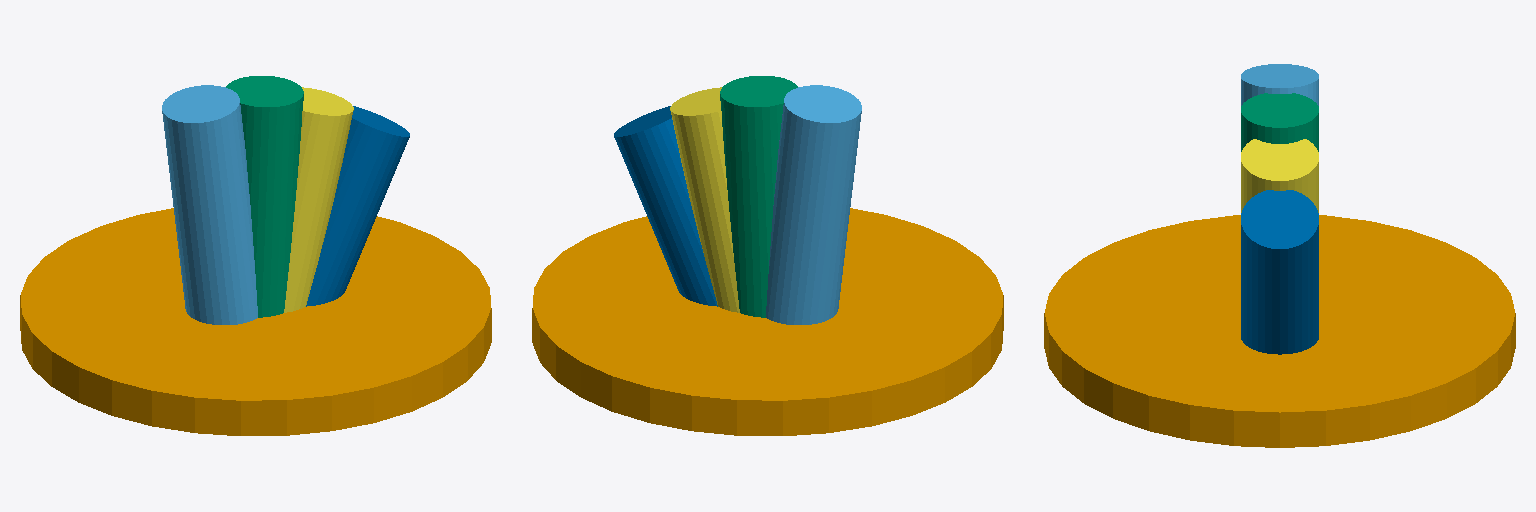
The robot description file, URDF, robot "robot_hand":
<?xml version="1.0"?>
<robot name="robot_hand">

  <link name="base_link">
    <visual>
      <geometry>
        <cylinder length="0.01" radius="0.06"/>
      </geometry>
    </visual>
  </link>
  
  <link name="fore_finger_metacarpal">
    <visual>
      <geometry>
        <cylinder length="0.0645" radius="0.01"/>
      </geometry>
      <origin rpy="0 0 0" xyz="0 0 0.03225"/>
    </visual>
  </link>
  
  <link name="middle_finger_metacarpal">
    <visual>
      <geometry>
        <cylinder length="0.0633" radius="0.01"/>
      </geometry>
      <origin rpy="0 0 0" xyz="0 0 0.03165"/>
    </visual>
  </link>

  <link name="ring_finger_metacarpal">
    <visual>
      <geometry>
        <cylinder length="0.05854" radius="0.01"/>
      </geometry>
      <origin rpy="0 0 0" xyz="0 0 0.02927"/>
    </visual>
  </link>
  
  <link name="little_finger_metacarpal">
    <visual>
      <geometry>
        <cylinder length="0.05293" radius="0.01"/>
      </geometry>
      <origin rpy="0 0 0" xyz="0 0 0.026465"/>
    </visual>
  </link>
  
  
  
  
  <!-- Joints -->
  <joint name="base_to_fore_finger" type="fixed">
    <parent link="base_link"/>
    <child link="fore_finger_metacarpal"/>
    <origin rpy="0 -0.1193805 0" xyz="-0.0085 0 0"/>
  </joint>
  
  <joint name="base_to_middle_finger" type="fixed">
    <parent link="base_link"/>
    <child link="middle_finger_metacarpal"/>
    <origin rpy="0 0.03961897 0" xyz="0 0 0"/>
  </joint>
  
  <joint name="base_to_ring_finger" type="fixed">
    <parent link="base_link"/>
    <child link="ring_finger_metacarpal"/>
    <origin rpy="0 0.2303835 0" xyz="0.00403 0 0"/>
  </joint>
  
  <joint name="base_to_little_finger" type="fixed">
    <parent link="base_link"/>
    <child link="little_finger_metacarpal"/>
    <origin rpy="0 0.45186574 0" xyz="0.01154 0 0"/>
  </joint>
  


  
</robot>

--- Render facts (derived) ---
Views: 3 orthographic renders of the robot side by side, from view 1: azimuth 30°, elevation 25°; view 2: azimuth 150°, elevation 25°; view 3: azimuth 270°, elevation 25°.
Model robot_hand with 5 links and 4 joints (4 fixed), rooted at base_link, posed every joint at zero.
Links seen in each view (by area): view 1: base_link, fore_finger_metacarpal, middle_finger_metacarpal, little_finger_metacarpal, ring_finger_metacarpal; view 2: base_link, fore_finger_metacarpal, middle_finger_metacarpal, little_finger_metacarpal, ring_finger_metacarpal; view 3: base_link, little_finger_metacarpal, ring_finger_metacarpal, middle_finger_metacarpal, fore_finger_metacarpal.
Boxes of the visible links, x1=… form: base_link: x1=20, y1=208, x2=491, y2=435; fore_finger_metacarpal: x1=162, y1=85, x2=257, y2=324; middle_finger_metacarpal: x1=226, y1=76, x2=303, y2=317; little_finger_metacarpal: x1=306, y1=106, x2=409, y2=306; ring_finger_metacarpal: x1=284, y1=87, x2=353, y2=312; base_link: x1=532, y1=208, x2=1003, y2=435; fore_finger_metacarpal: x1=766, y1=85, x2=861, y2=324; middle_finger_metacarpal: x1=720, y1=76, x2=797, y2=317; little_finger_metacarpal: x1=614, y1=106, x2=717, y2=306; ring_finger_metacarpal: x1=670, y1=87, x2=739, y2=312; base_link: x1=1044, y1=215, x2=1515, y2=447; little_finger_metacarpal: x1=1241, y1=190, x2=1318, y2=354; ring_finger_metacarpal: x1=1241, y1=139, x2=1318, y2=212; middle_finger_metacarpal: x1=1241, y1=93, x2=1318, y2=151; fore_finger_metacarpal: x1=1241, y1=64, x2=1318, y2=105.
Size in the robot's own frame: 0.12 by 0.12 by 0.0702 metres.
Geometry: primitives only (box / cylinder / sphere), no mesh files.